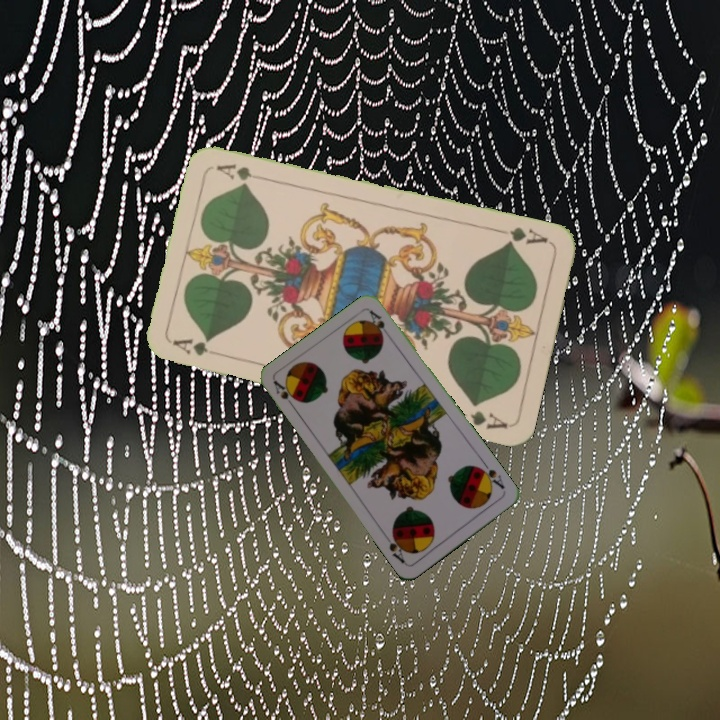GA: (493, 222, 551, 248), (169, 335, 211, 359)
SA: (474, 458, 507, 492), (270, 377, 299, 413)
